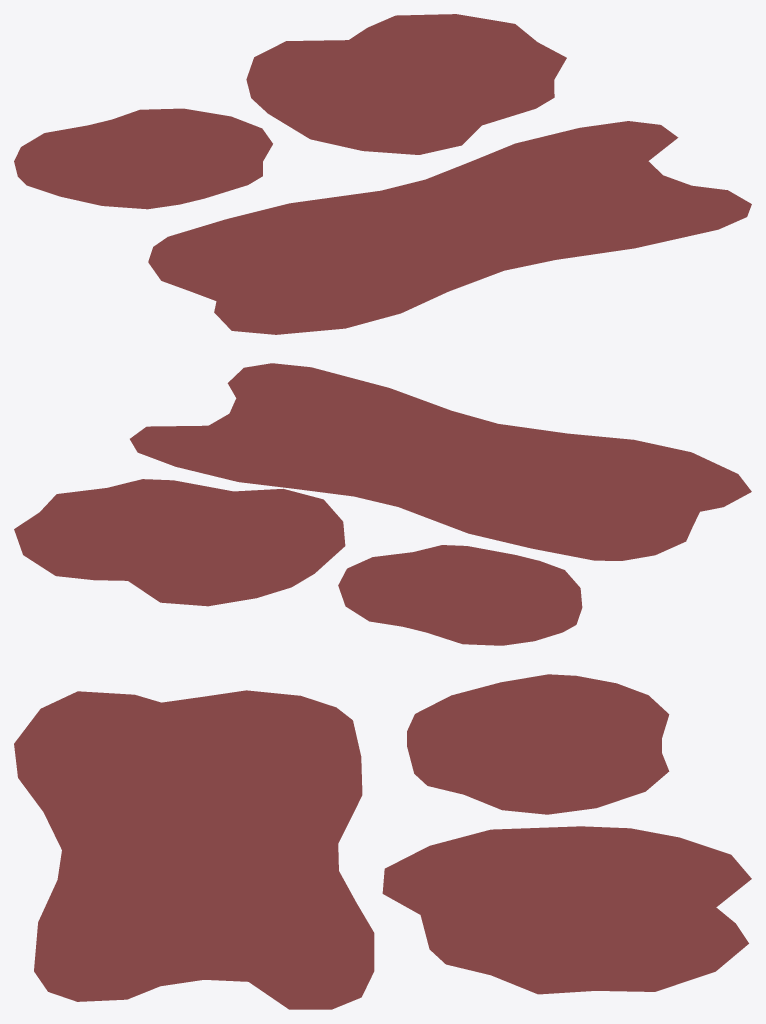
The model's file is Charcos de Sangre FBX.fbx.
The picture shows the model from 3 angles, top to bottom: view 1: azimuth 30°, elevation 25°; view 2: azimuth 150°, elevation 25°; view 3: azimuth 270°, elevation 25°; orthographic projection. The views are drawn at different scales.
Parts seen in each view (by area): view 1: pPlane3, pPlane1, pPlane2; view 2: pPlane3, pPlane1, pPlane2; view 3: pPlane3, pPlane1, pPlane2.
Boxes of the visible parts, x1,y1,x2,y2 form: pPlane3: (148, 121, 751, 334); pPlane1: (246, 14, 566, 154); pPlane2: (14, 108, 272, 209); pPlane3: (130, 363, 751, 560); pPlane1: (14, 479, 345, 606); pPlane2: (338, 545, 582, 645); pPlane3: (14, 690, 374, 1009); pPlane1: (382, 826, 751, 994); pPlane2: (407, 674, 669, 814).
Size of the model in its own units: 0.1136 by 0.00153 by 0.1087.
